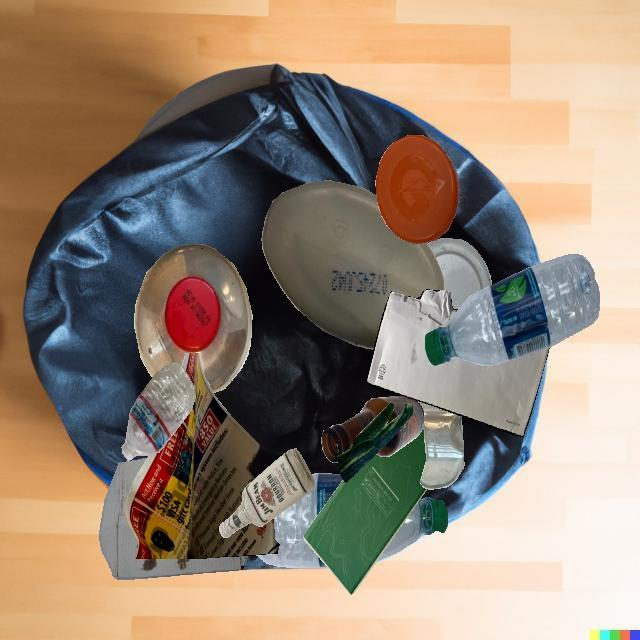biowaste: (337, 403, 413, 483)
cardboard: (99, 458, 248, 580)
glass: (219, 448, 315, 538), (321, 396, 424, 463), (414, 400, 464, 490)
paper: (125, 353, 279, 559), (366, 289, 549, 436), (303, 428, 427, 595)
plastic: (262, 180, 444, 349), (425, 254, 600, 366), (134, 244, 252, 393), (375, 135, 460, 244), (256, 473, 343, 568), (121, 363, 195, 461), (428, 238, 492, 309), (377, 497, 448, 560)
